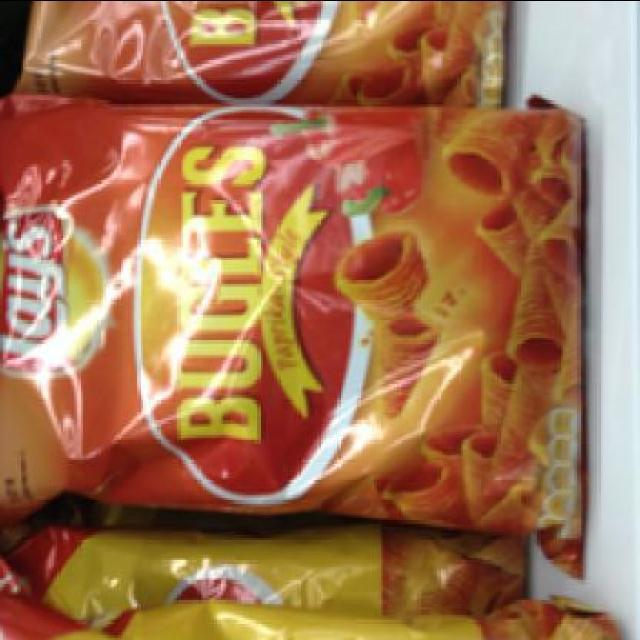Chips: (1, 104, 584, 528)
